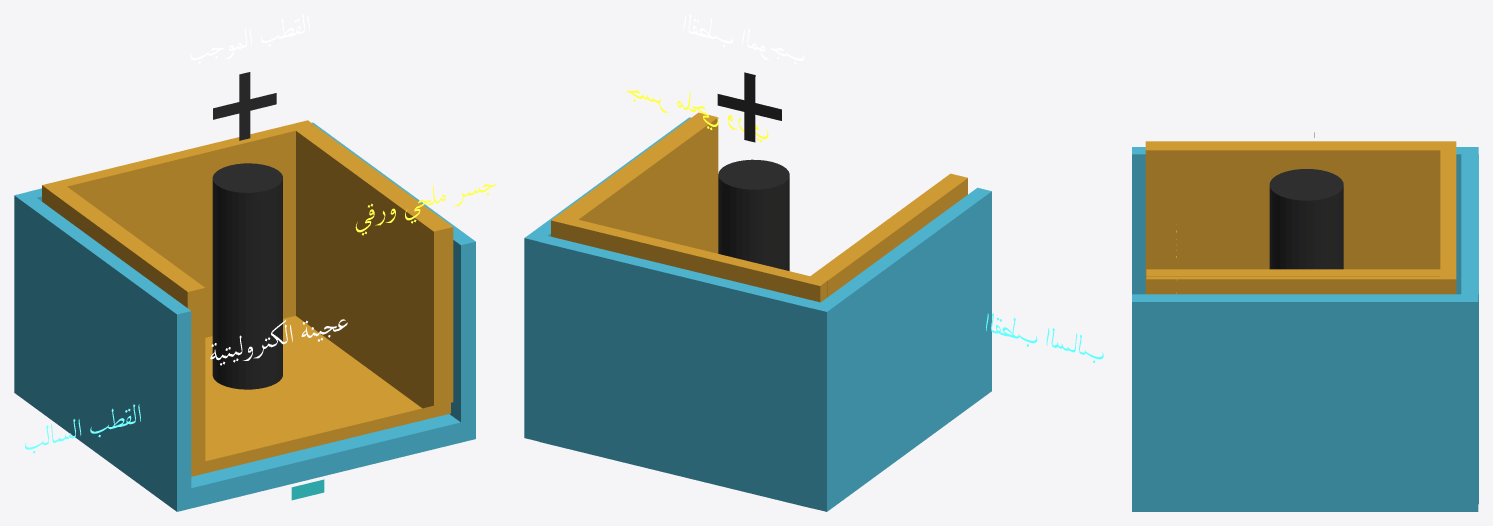
File: drycell.glb
3 renders of one model, left to right at view 1: azimuth 30°, elevation 25°; view 2: azimuth 150°, elevation 25°; view 3: azimuth 270°, elevation 25°, orthographic. The views are drawn at different scales.
Visible parts, largest first — view 1: Cube.001, Cube, Cylinder, +, +.005, +.004, +.003, +.002; view 2: Cube, Cube.001, Cylinder, +; view 3: Cube, Cube.001, Cylinder.
Part boxes in pixels (left/top/right/bottom): Cube.001: left=42, top=120, right=453, bottom=476; Cube: left=14, top=122, right=475, bottom=511; Cylinder: left=212, top=163, right=282, bottom=389; +: left=213, top=72, right=276, bottom=140; +.005: left=210, top=319, right=347, bottom=365; +.004: left=355, top=184, right=495, bottom=235; +.003: left=25, top=404, right=140, bottom=453; +.002: left=190, top=14, right=309, bottom=63; Cube: left=524, top=117, right=991, bottom=511; Cube.001: left=551, top=112, right=967, bottom=302; Cylinder: left=718, top=159, right=789, bottom=270; +: left=717, top=72, right=781, bottom=142; Cube: left=1132, top=147, right=1478, bottom=511; Cube.001: left=1145, top=141, right=1456, bottom=294; Cylinder: left=1269, top=169, right=1343, bottom=269.
Size of the model in its own units: 3.49 by 2.99 by 2.1.
